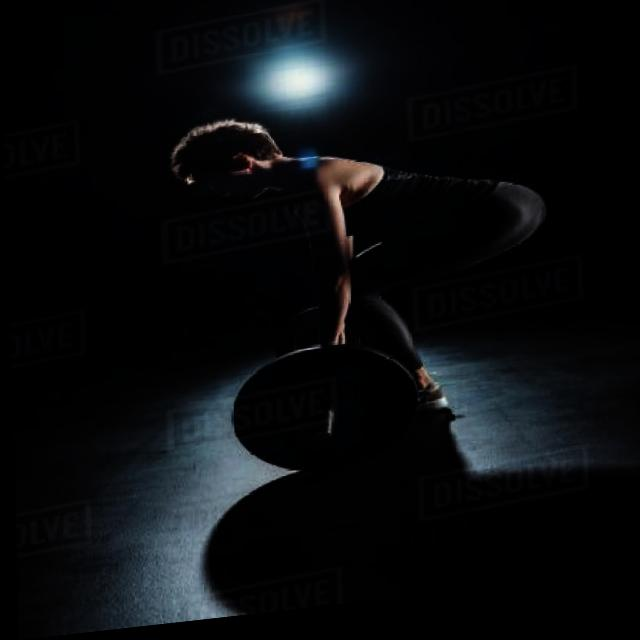barbell: (222, 338, 424, 509)
